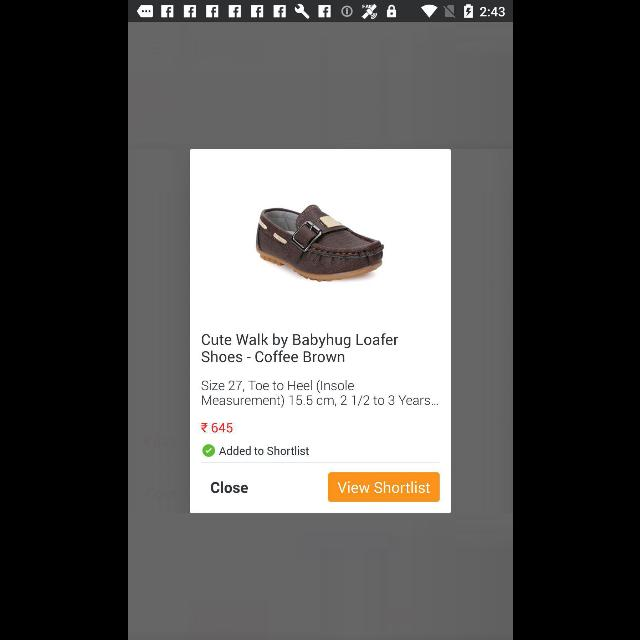checkbox: (202, 444, 214, 456)
image: (255, 204, 383, 282)
panel: (190, 149, 450, 513)
text: (201, 381, 437, 407), (200, 333, 398, 362), (218, 446, 308, 456), (210, 481, 248, 493), (200, 423, 232, 432)
textbutton: (327, 472, 439, 502)
uppertaskbar: (128, 1, 512, 23)
